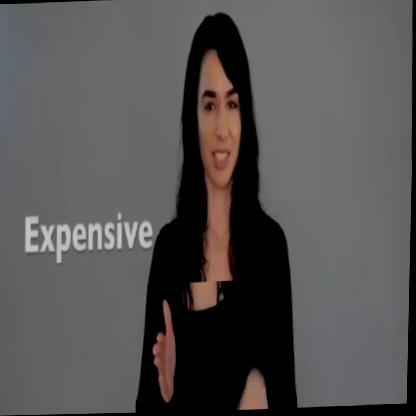Expensive: (146, 280, 278, 413)
